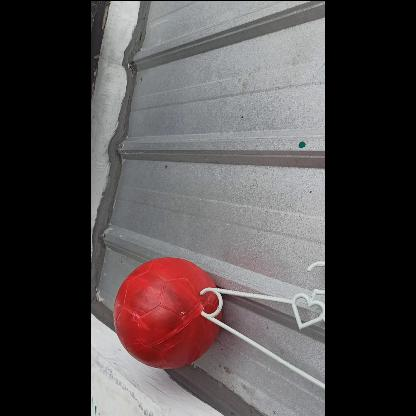red_ball: (110, 254, 222, 366)
